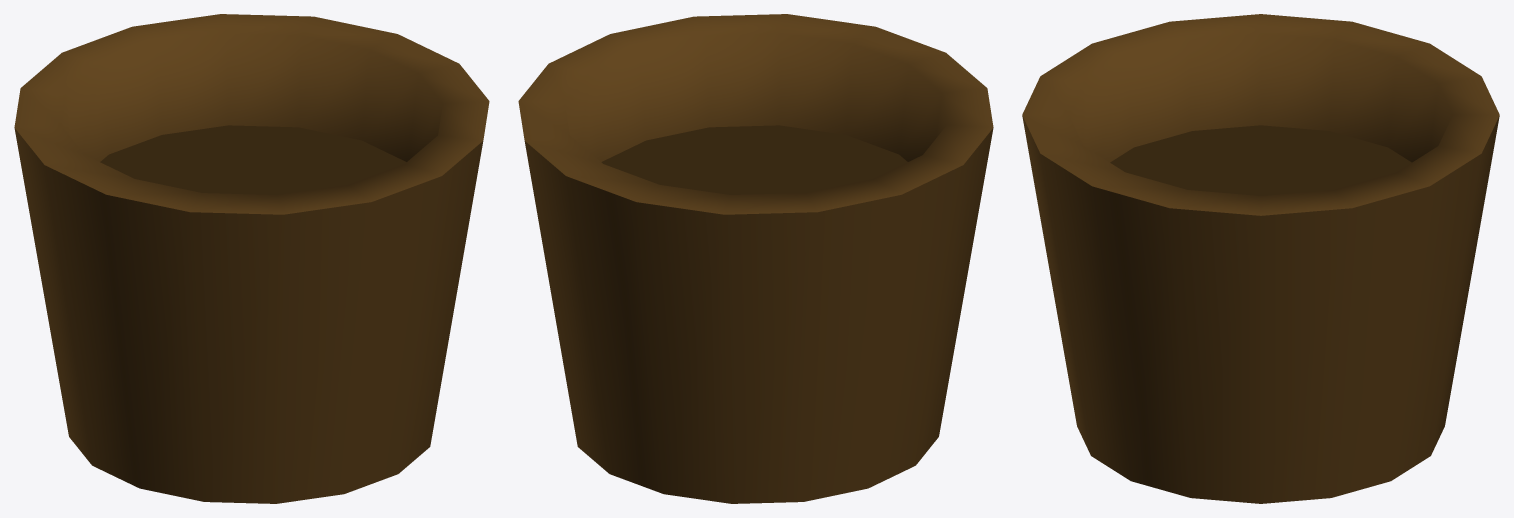
Rendered from maseta.fbx.
3 views of the same model, side by side, from view 1: azimuth 30°, elevation 25°; view 2: azimuth 150°, elevation 25°; view 3: azimuth 270°, elevation 25° (orthographic).
Visible parts, largest first — view 1: Maseta.004; view 2: Maseta.004; view 3: Maseta.004.
Boxes of the visible parts, x1,y1,x2,y2 form: Maseta.004: [14, 14, 489, 503]; Maseta.004: [518, 14, 993, 503]; Maseta.004: [1022, 14, 1499, 503].
Bounding box in the file's own units: 43.13 × 31.01 × 43.13.
